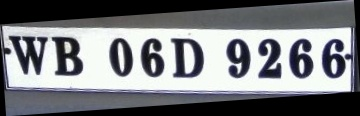character: (8, 33, 49, 74), (51, 34, 84, 76), (170, 37, 203, 79), (225, 37, 251, 77), (107, 37, 133, 76), (139, 37, 165, 76), (321, 37, 346, 77), (258, 37, 282, 78), (288, 37, 312, 78)
